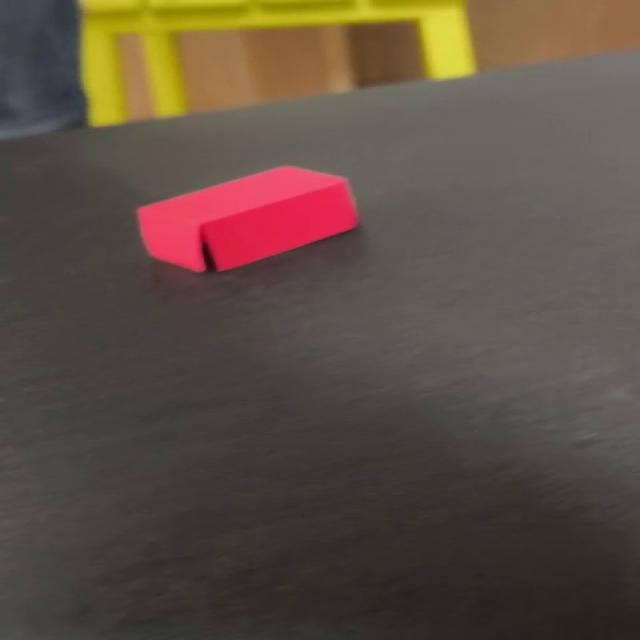red block: (135, 164, 360, 273)
